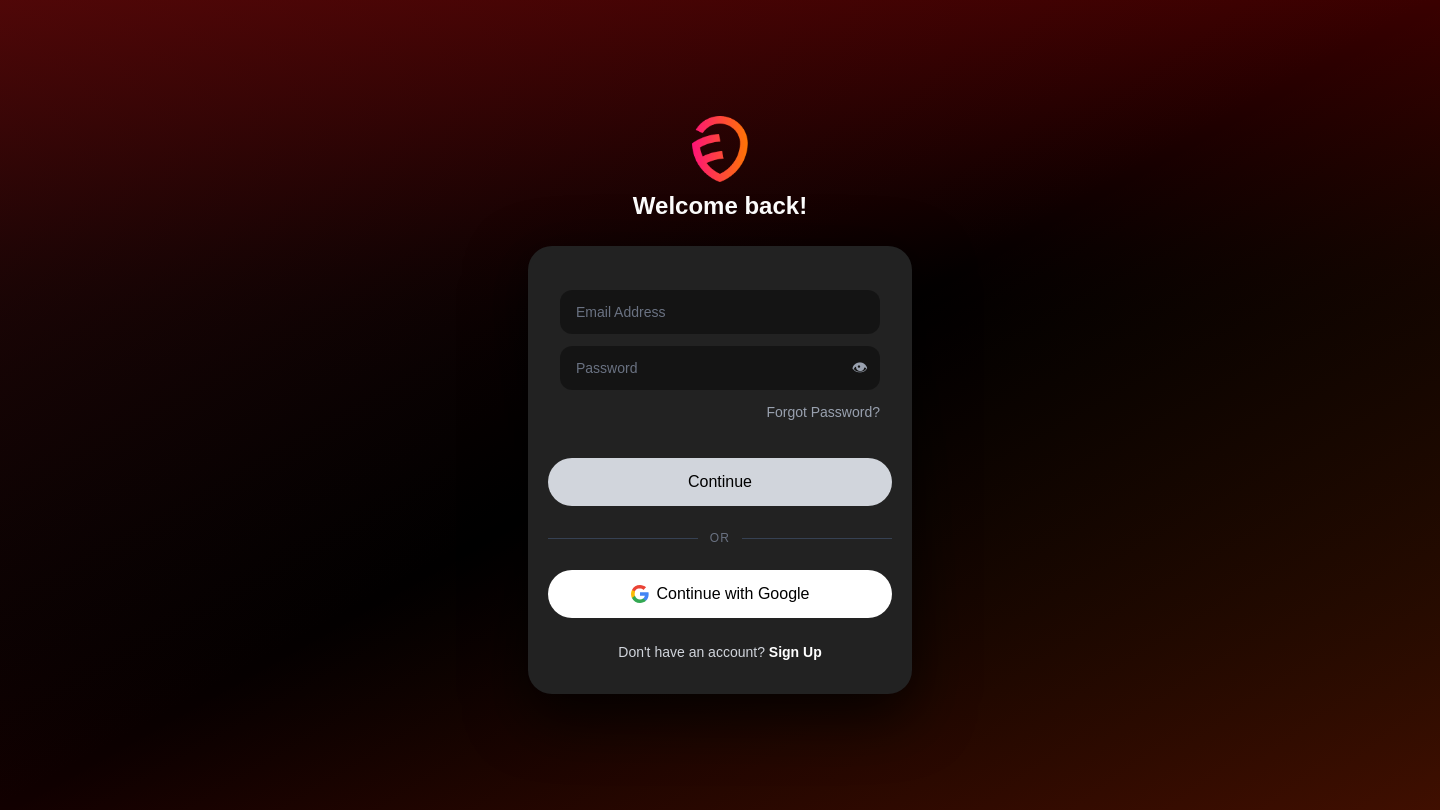
Test: LoginPage - Login Flow › should show error if fields are empty
Click the button "Continue": {"x": 720, "y": 482} [548,458,892,506]
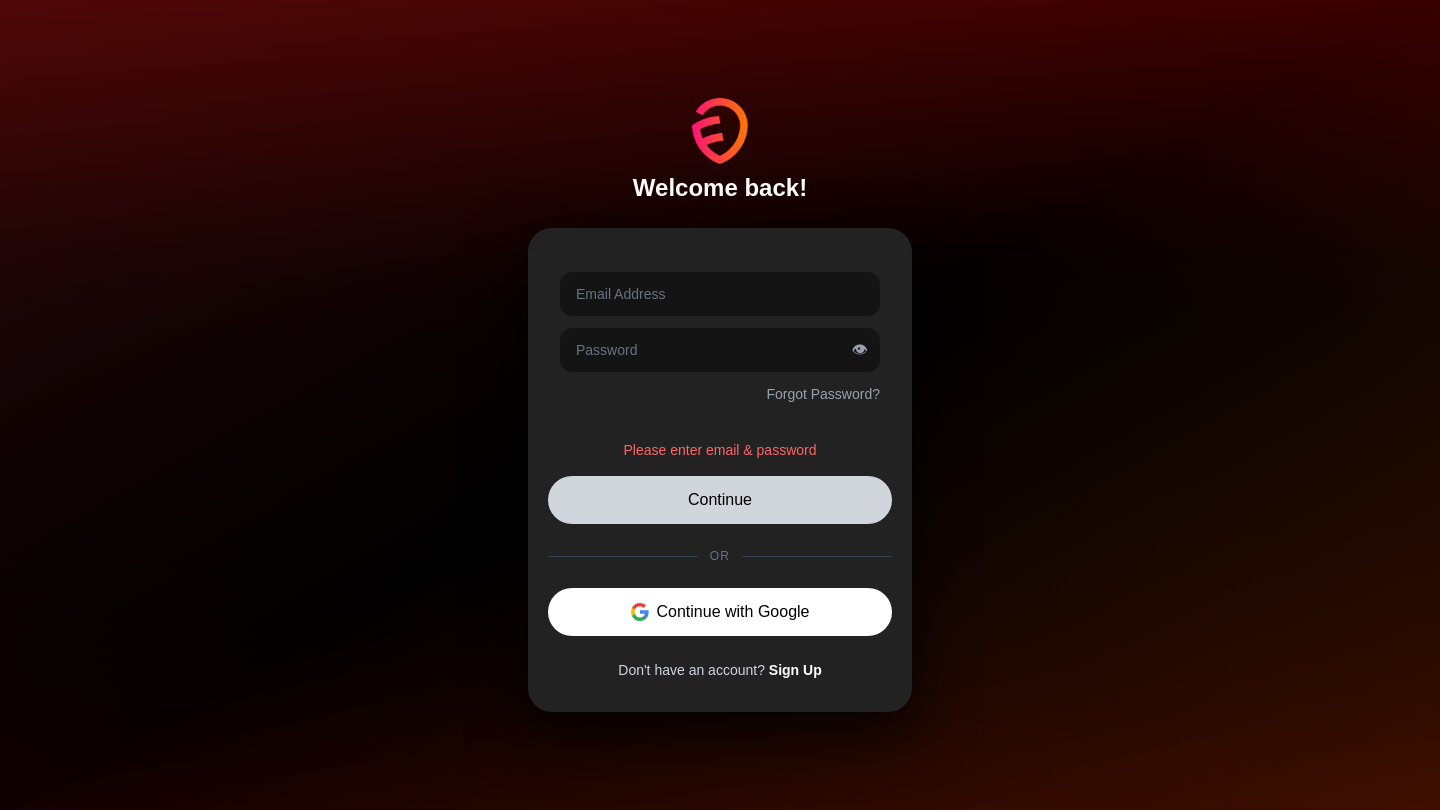
Now the text "Please enter email & password" is shown, box [624,442,816,458]
